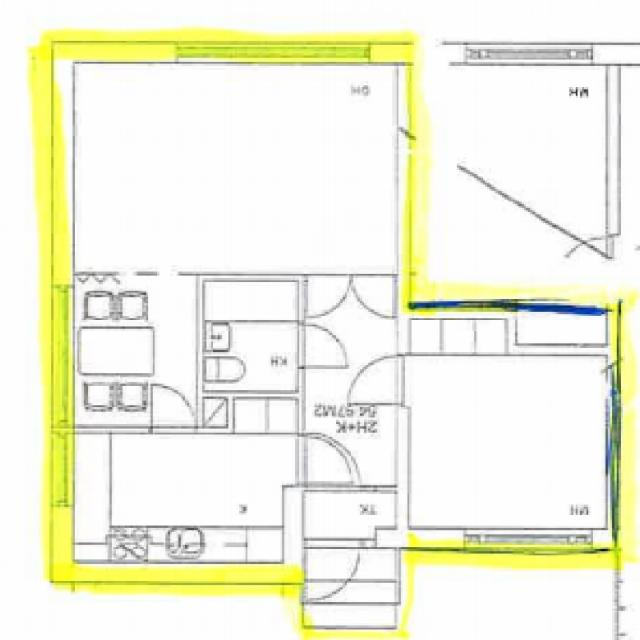door: (305, 536, 361, 600), (309, 434, 359, 490), (347, 354, 404, 401), (148, 379, 196, 433), (297, 434, 353, 480), (297, 323, 350, 367), (351, 274, 394, 323), (309, 274, 351, 323)
